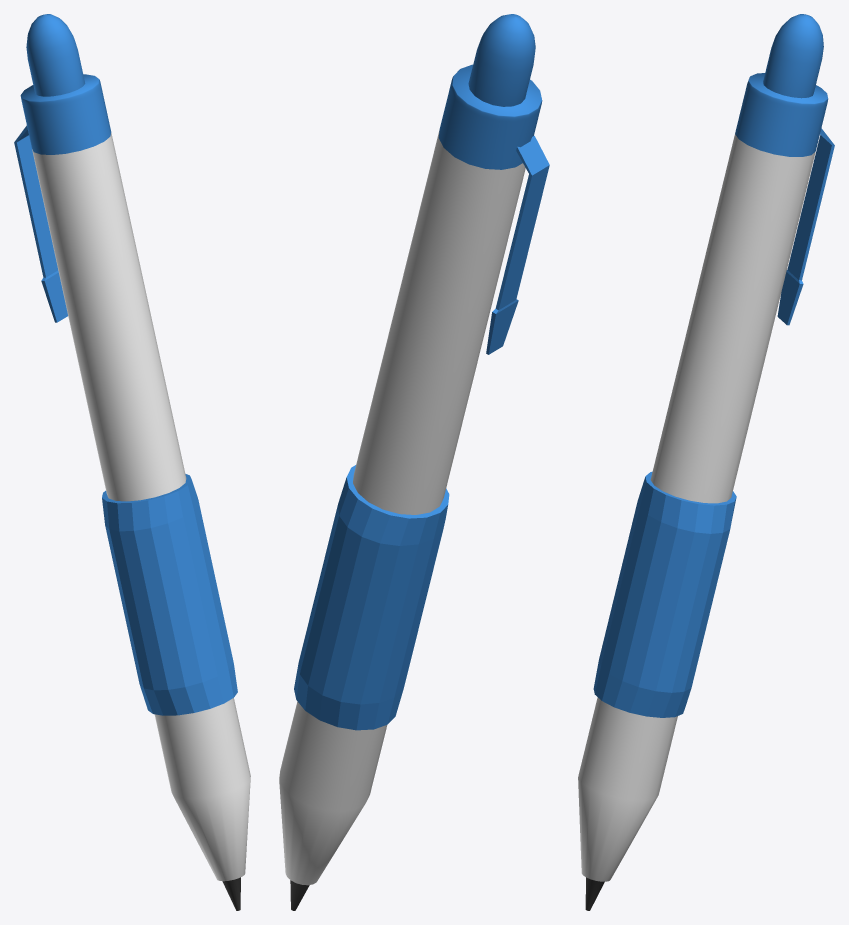
Rendered from Bolpen.fbx.
The picture shows the model from 3 angles, left to right: view 1: azimuth 30°, elevation 25°; view 2: azimuth 210°, elevation 25°; view 3: azimuth 270°, elevation 25°; orthographic projection. The views are drawn at different scales.
Visible parts, largest first — view 1: Bolpen.000; view 2: Bolpen.000; view 3: Bolpen.000.
Part boxes in pixels (left/top/right/bottom): Bolpen.000: left=14, top=14, right=250, bottom=910; Bolpen.000: left=279, top=14, right=549, bottom=910; Bolpen.000: left=578, top=14, right=834, bottom=910.
Size of the model in its own units: 102 by 602 by 164.
